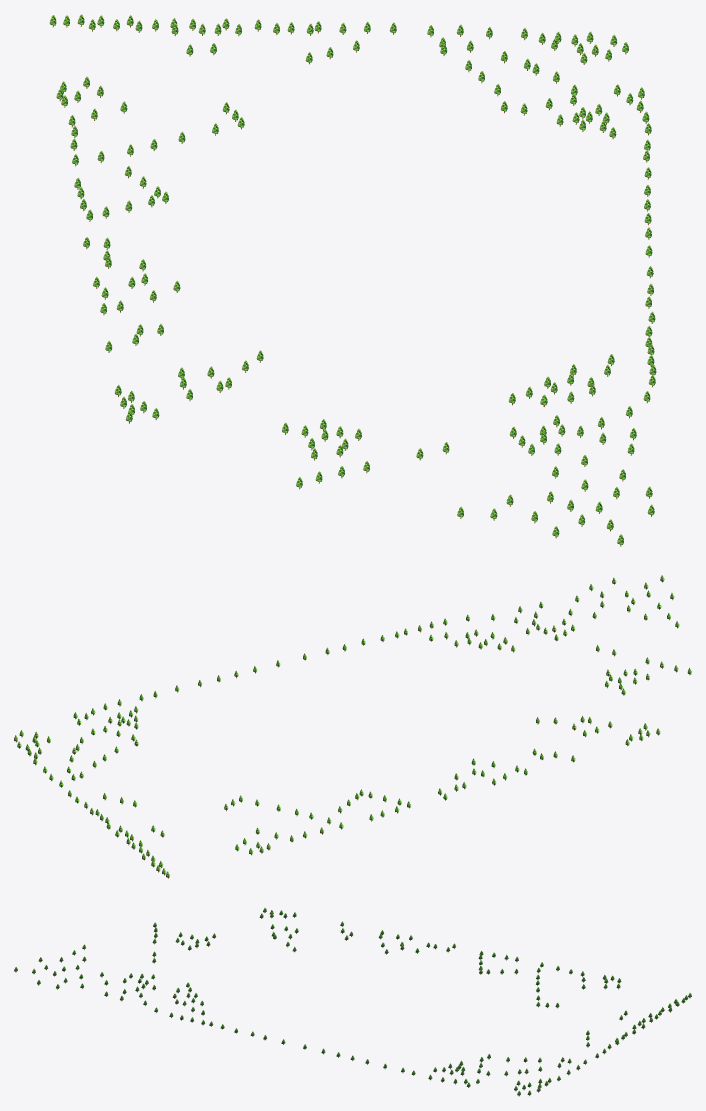
3 renders of one model, top to bottom at view 1: azimuth 30°, elevation 25°; view 2: azimuth 150°, elevation 25°; view 3: azimuth 270°, elevation 25°, orthographic. The views are drawn at different scales.
Size of the model in its own units: 445 by 6.67 by 691.
Materials: 1 (1 with a texture image).
